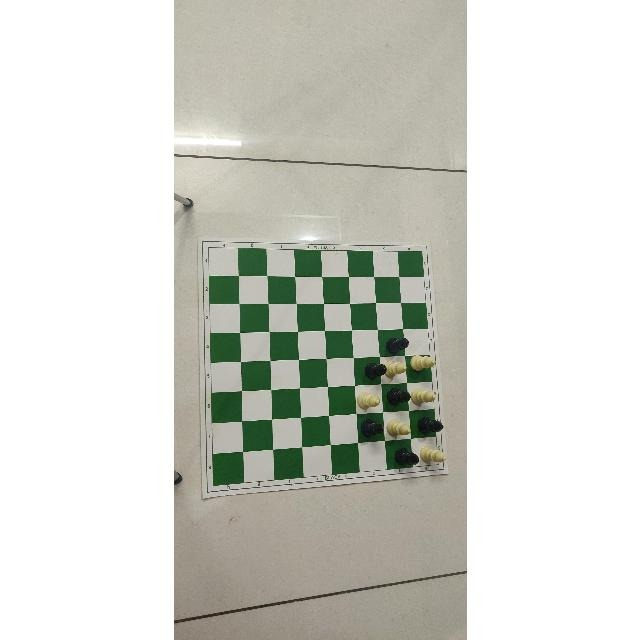black-bishop: (386, 443, 419, 467), (378, 330, 409, 354), (357, 415, 385, 441), (359, 358, 388, 383), (414, 411, 444, 435), (384, 384, 411, 409)
white-bishop: (385, 412, 410, 440), (354, 387, 382, 411), (419, 440, 446, 464), (410, 383, 436, 407), (383, 356, 407, 381), (409, 355, 435, 377)
